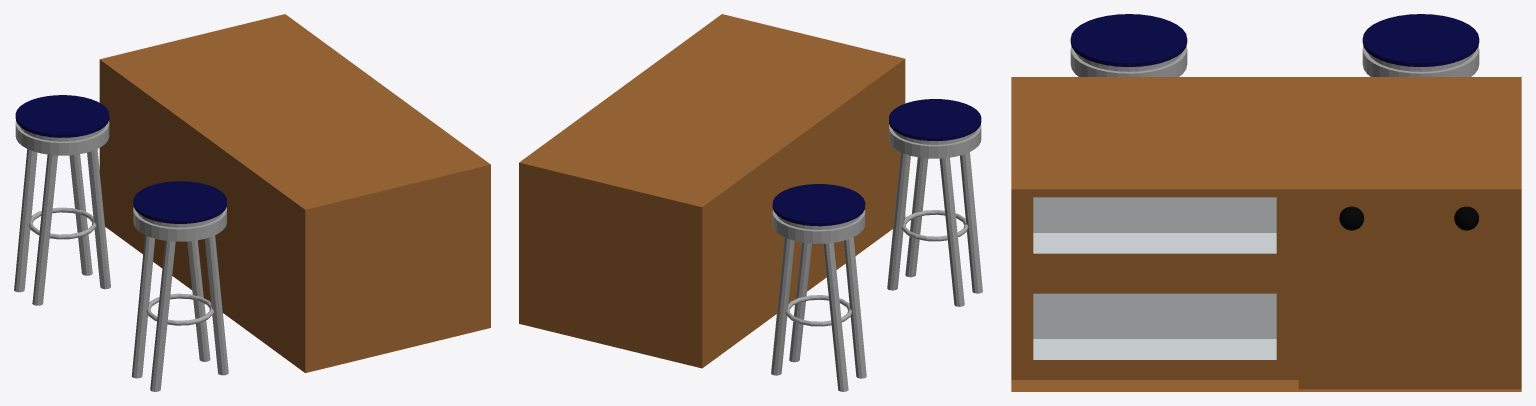
The model's file is adasandalye.fbx.
3 renders of one model, left to right at view 1: azimuth 30°, elevation 25°; view 2: azimuth 150°, elevation 25°; view 3: azimuth 270°, elevation 25°, orthographic. The views are drawn at different scales.
Visible parts, largest first — view 1: Circle.002; view 2: Circle.002; view 3: Circle.002.
Boxes of the visible parts, x1,y1,x2,y2 form: Circle.002: (14,14,490,391); Circle.002: (519,14,982,391); Circle.002: (1011,14,1521,391).
Size of the model in its own units: 962 by 537 by 1109.
